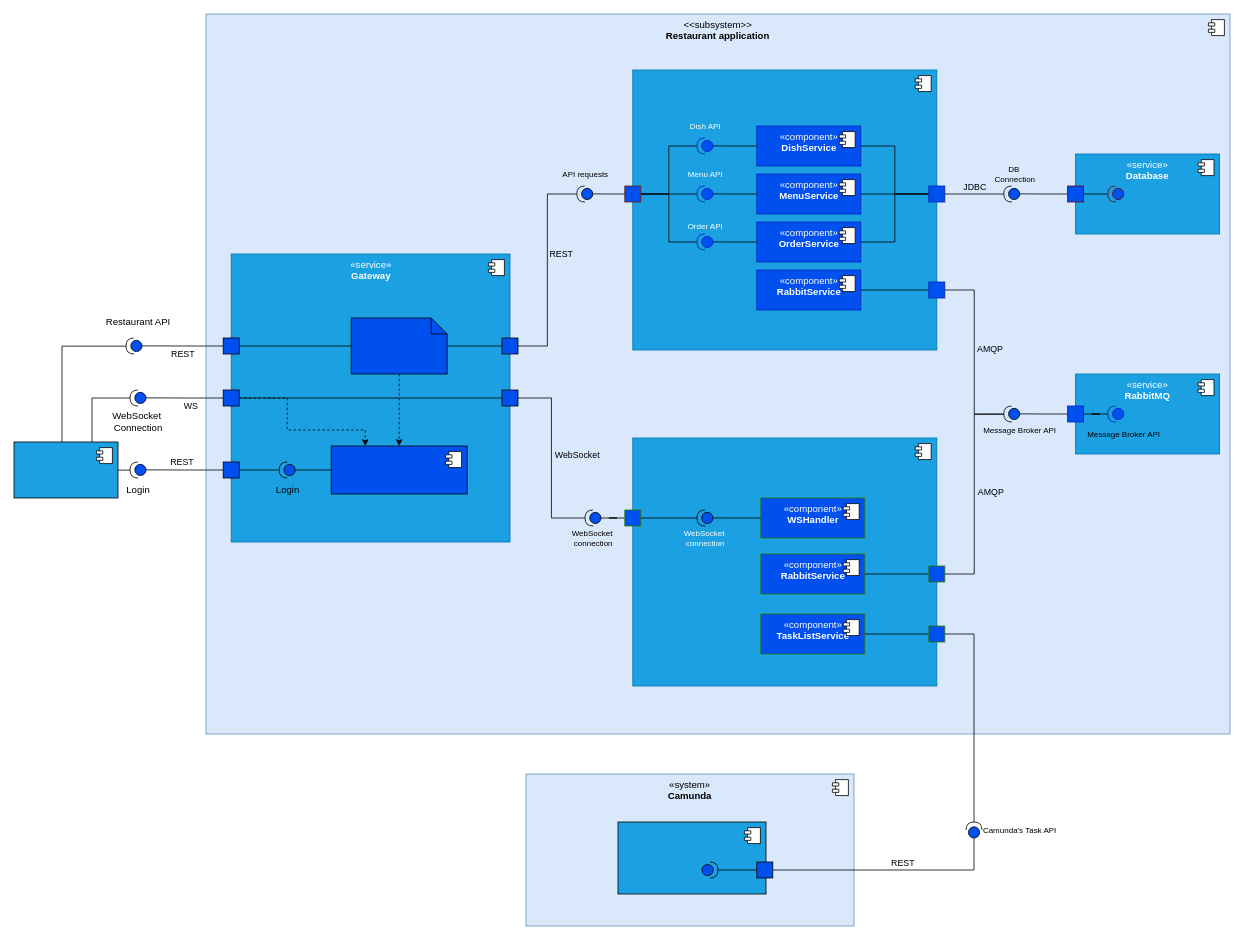
This 1244x940 diagram has some shape labels left out. The shapes that lost their labels are listed below. From the top down, each one's box as (x1, y1, x2, y2) in pixels, then its label:
(632, 69, 937, 350): «service» API
(350, 317, 447, 374): API secured goes trough authentication
(13, 441, 118, 498): «component» Client
(330, 445, 467, 494): «component» Authentication (JwtService)
(632, 437, 937, 686): «service» WebSocket
(617, 821, 766, 894): <<service>> TaskList
